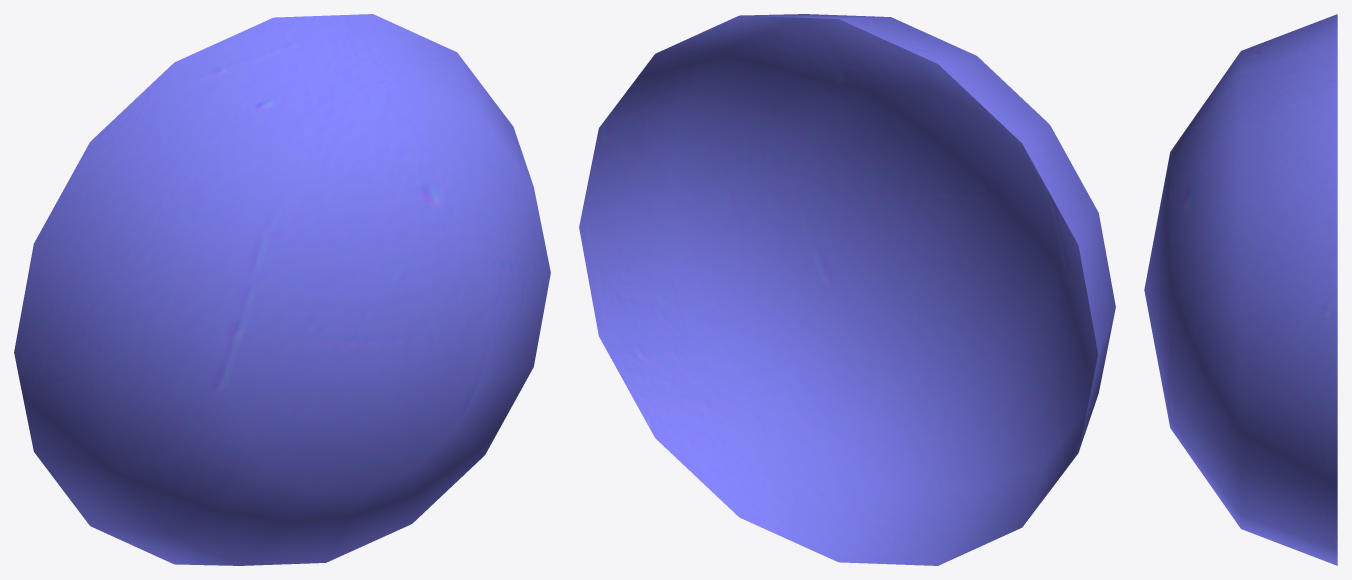
File: station_window.glb
The picture shows the model from 3 angles, left to right: view 1: azimuth 30°, elevation 25°; view 2: azimuth 150°, elevation 25°; view 3: azimuth 270°, elevation 25°; orthographic projection. The views are drawn at different scales.
Parts seen in each view (by area): view 1: Station Glass; view 2: Station Glass; view 3: Station Glass.
Part boxes in pixels (bbox=[...]): Station Glass: bbox=[14, 14, 550, 565]; Station Glass: bbox=[579, 14, 1115, 565]; Station Glass: bbox=[1144, 14, 1337, 565].
Size of the model in its own units: 2.17 by 2.17 by 0.7609.
Materials: 1 (1 with a texture image).
